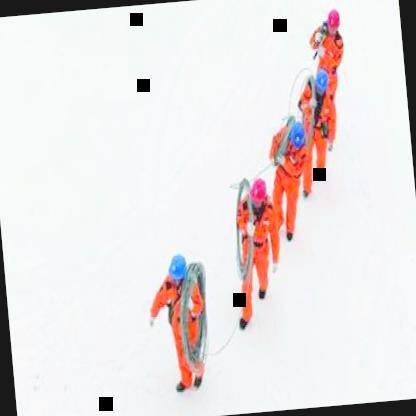helmet: (165, 245, 194, 296), (247, 172, 271, 220), (326, 7, 345, 37), (312, 70, 332, 96), (288, 122, 308, 147)
